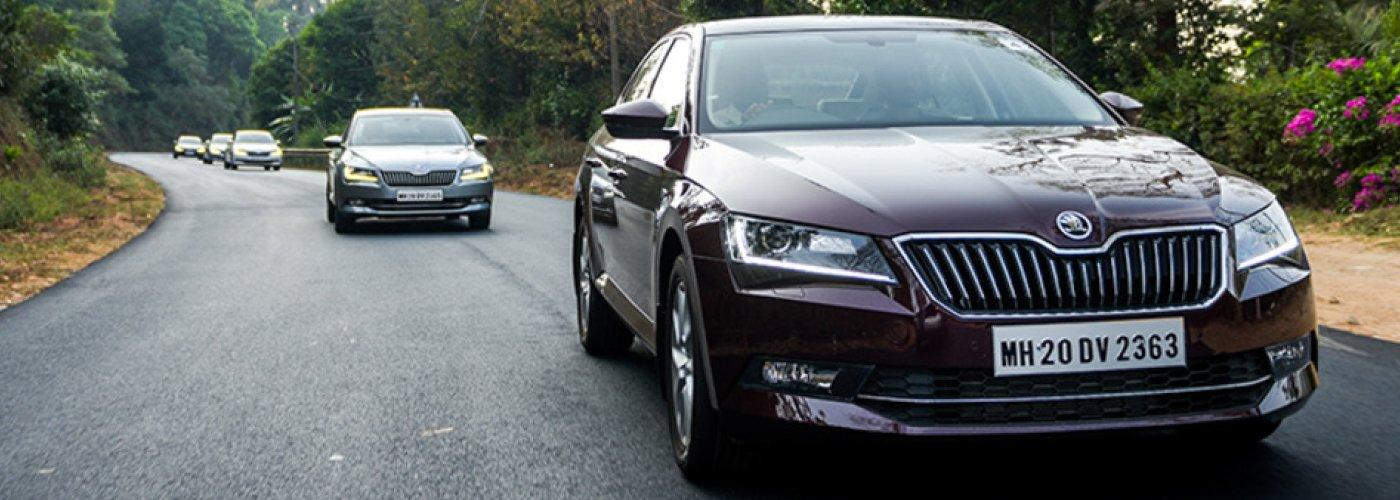Liscence Plate: (989, 321, 1199, 373), (394, 188, 449, 207)
